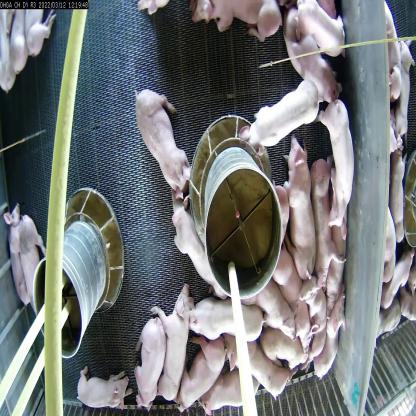Pig: (148, 272, 196, 413), (134, 79, 192, 191), (171, 197, 229, 305), (251, 76, 318, 159), (321, 93, 358, 231), (188, 284, 262, 345), (286, 145, 319, 281), (126, 322, 171, 412), (227, 332, 286, 398), (178, 338, 230, 402), (278, 244, 314, 334), (72, 363, 133, 415), (17, 218, 51, 310), (250, 272, 297, 338), (200, 365, 261, 415), (0, 196, 29, 300), (315, 296, 347, 384), (260, 320, 301, 373)
